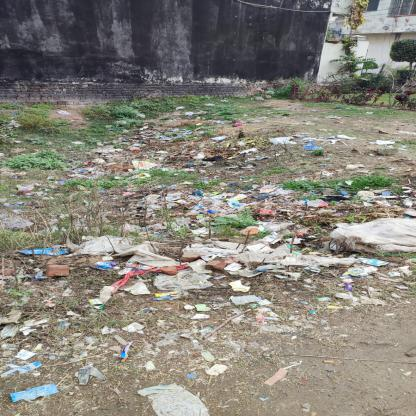Garbage: (96, 112, 416, 335)
